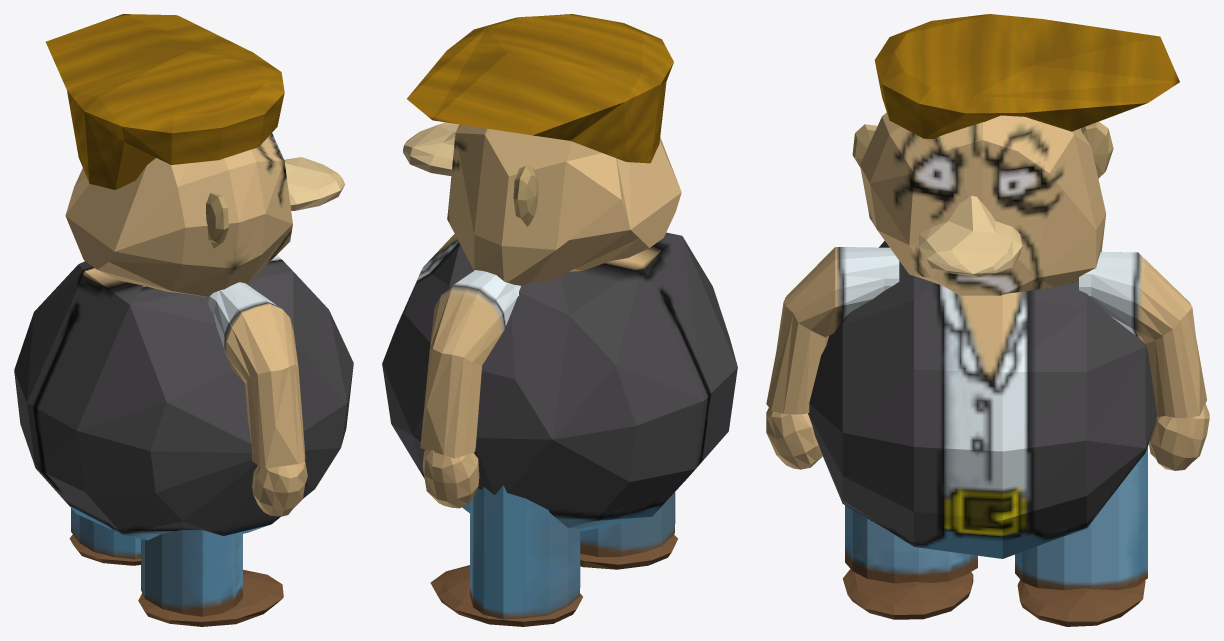
File: Ami.glb
The picture shows the model from 3 angles, left to right: view 1: azimuth 30°, elevation 25°; view 2: azimuth 150°, elevation 25°; view 3: azimuth 270°, elevation 25°; orthographic projection. The views are drawn at different scales.
Visible parts, largest first — view 1: Ami; view 2: Ami; view 3: Ami.
Boxes of the visible parts, box(x1,y1,x2,y2) form: Ami: box(14, 14, 353, 626); Ami: box(382, 14, 737, 626); Ami: box(766, 14, 1209, 626).
Bounding box in the file's own units: 151 × 245 × 181.
1 material, 1 textured.
